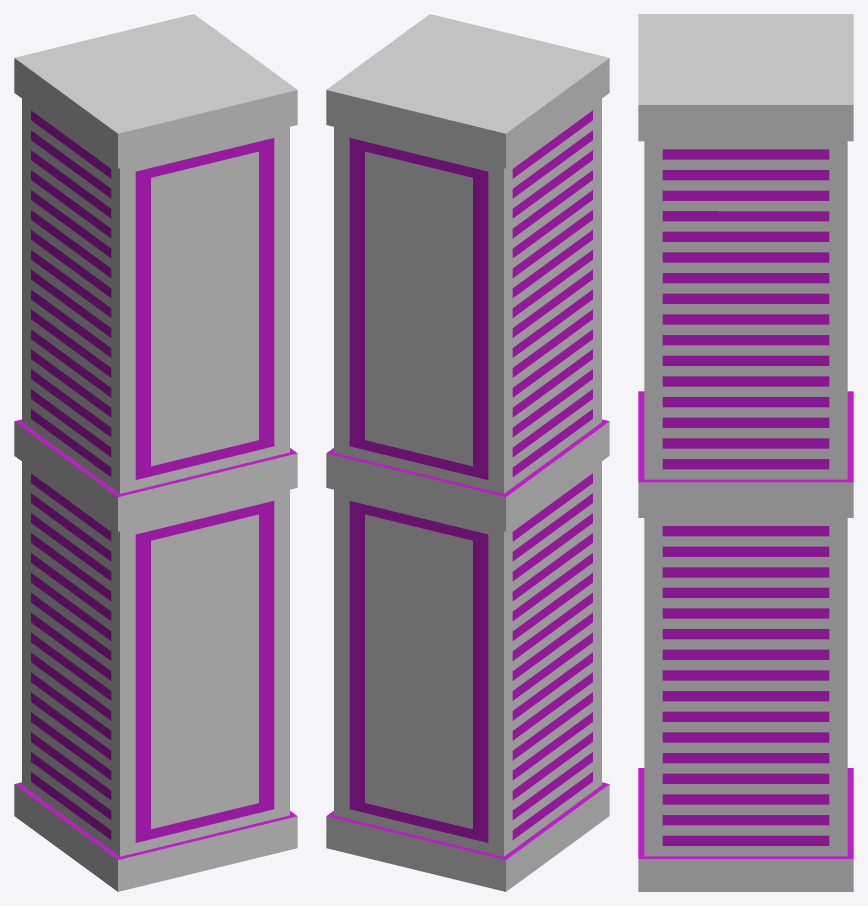
The model's file is SM_Building_Tall_4.fbx.
The picture shows the model from 3 angles, left to right: view 1: azimuth 30°, elevation 25°; view 2: azimuth 150°, elevation 25°; view 3: azimuth 270°, elevation 25°; orthographic projection. The views are drawn at different scales.
Visible parts, largest first — view 1: building_08.010; view 2: building_08.010; view 3: building_08.010.
Part boxes in pixels (left/top/right/bottom): building_08.010: left=14, top=14, right=297, bottom=891; building_08.010: left=326, top=14, right=609, bottom=891; building_08.010: left=638, top=14, right=853, bottom=891.
Bounding box in the file's own units: 8 × 32.25 × 8.
